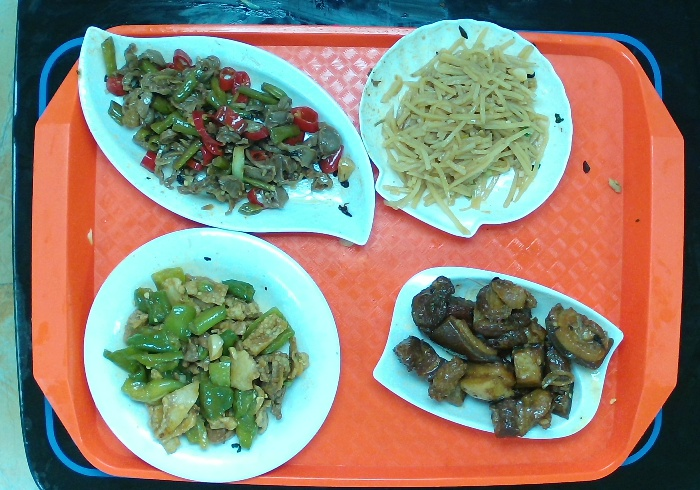RJxy-Bei_Ke_Wan: (357, 16, 575, 239)
RJxy-Jian_Jiao_Fang_Die: (371, 263, 625, 440)
RJxy-Jian_Jiao_Pan: (76, 24, 377, 247)
RJxy-Yuan_Pan: (82, 226, 343, 484)
